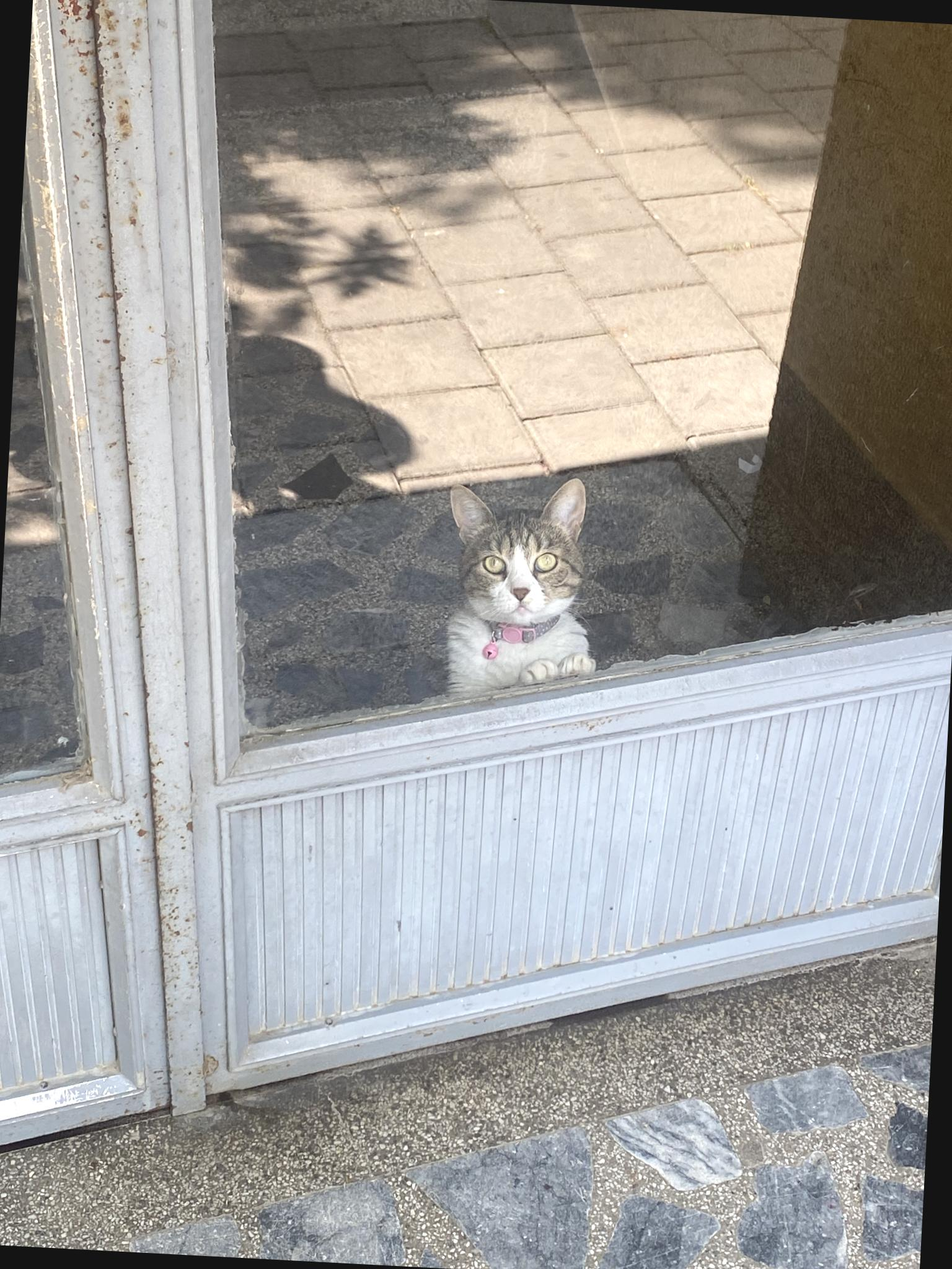macka: (437, 471, 608, 708)
